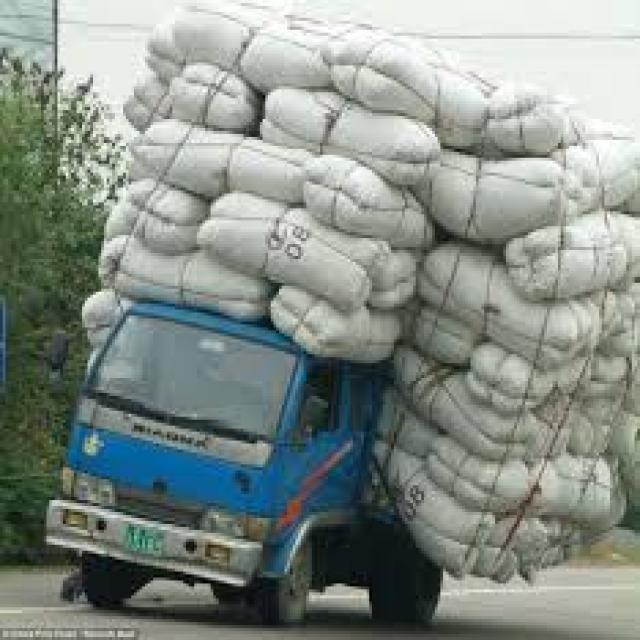uncovered: (50, 0, 632, 640)
